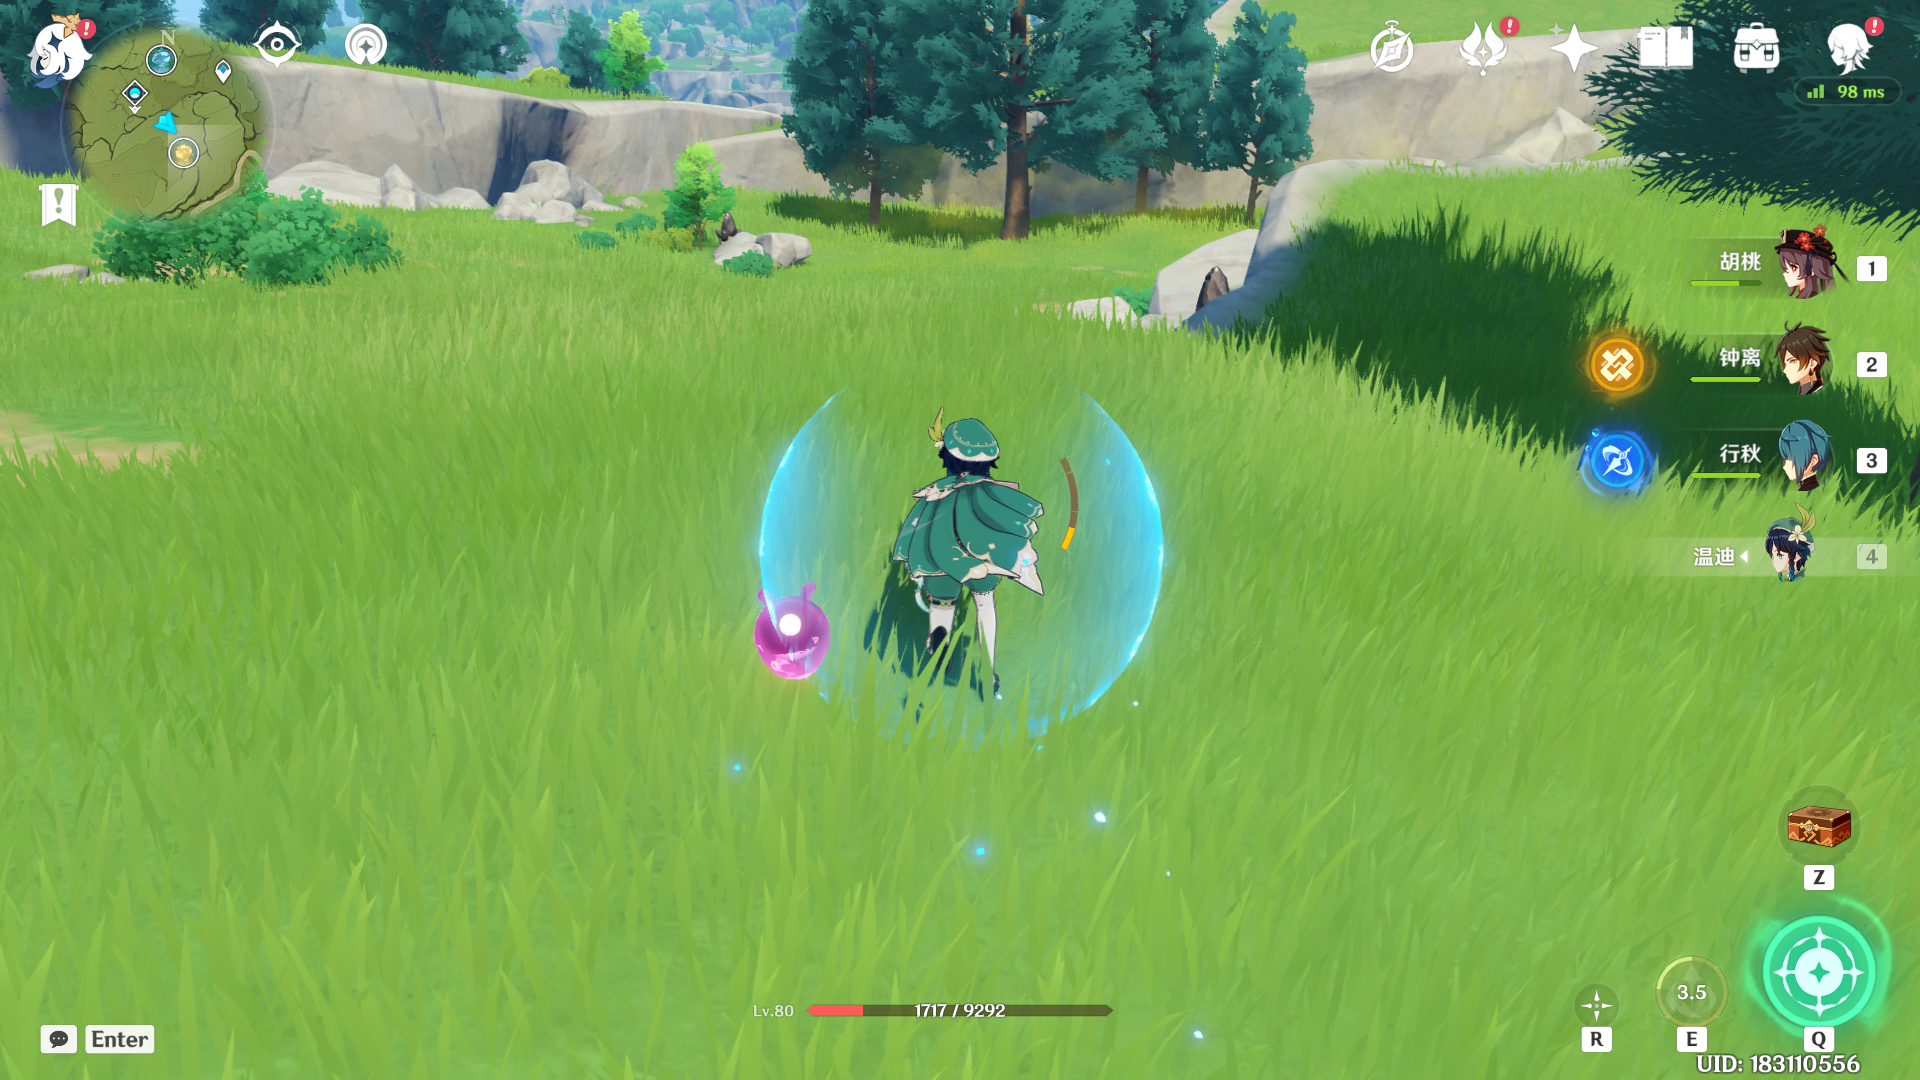character: (807, 382, 1077, 713)
